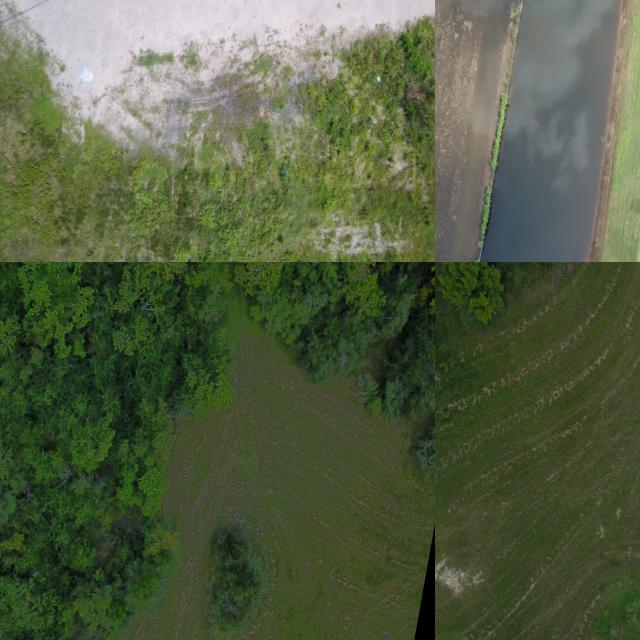fire: (481, 0, 620, 262)
